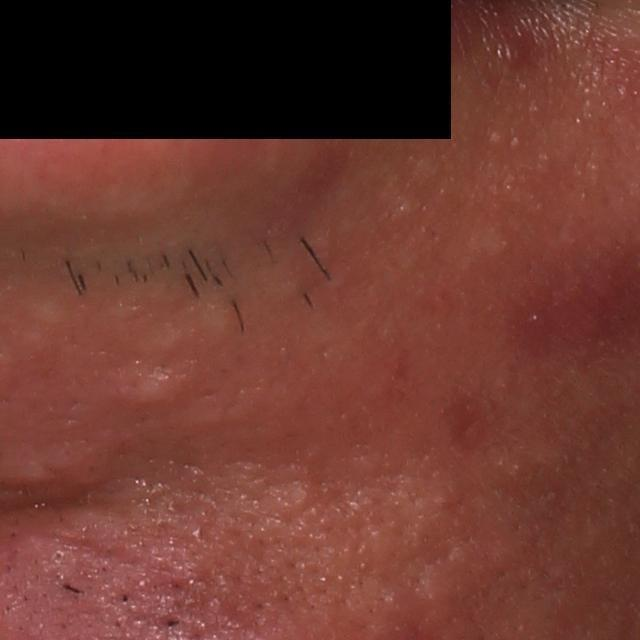hypertrophic_scar: (2, 291, 98, 350), (130, 296, 241, 345), (113, 355, 202, 409)
